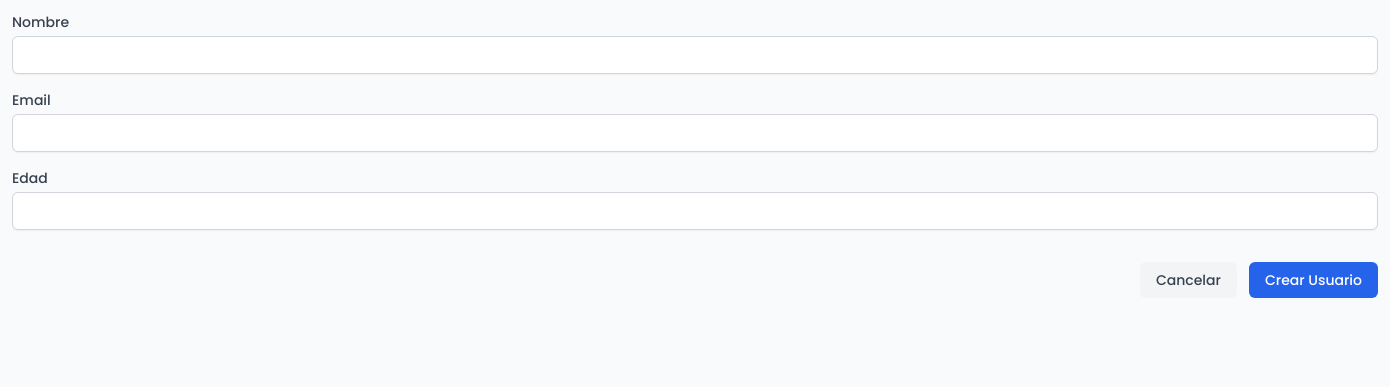
Feature: Formulario de Creación de Usuarios › Scenario: Usuario ingresa un correo electrónico inválido › Debe mostrar error para formato de correo electrónico inválido
Note: El usuario ingresa un correo electrónico inválido
Type "not-an-email" into the field labelled "Email" at coordinates (695, 133), box [12,114,1378,152]
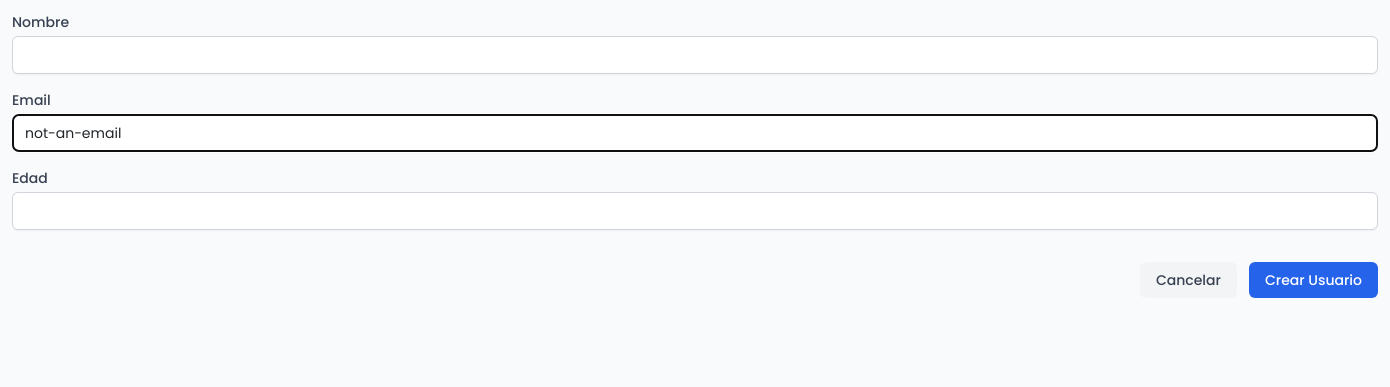
Note: AND: El usuario hace clic en el botón de enviar
Click the button "Crear Usuario" at coordinates (1313, 280), box [1249,262,1378,298]
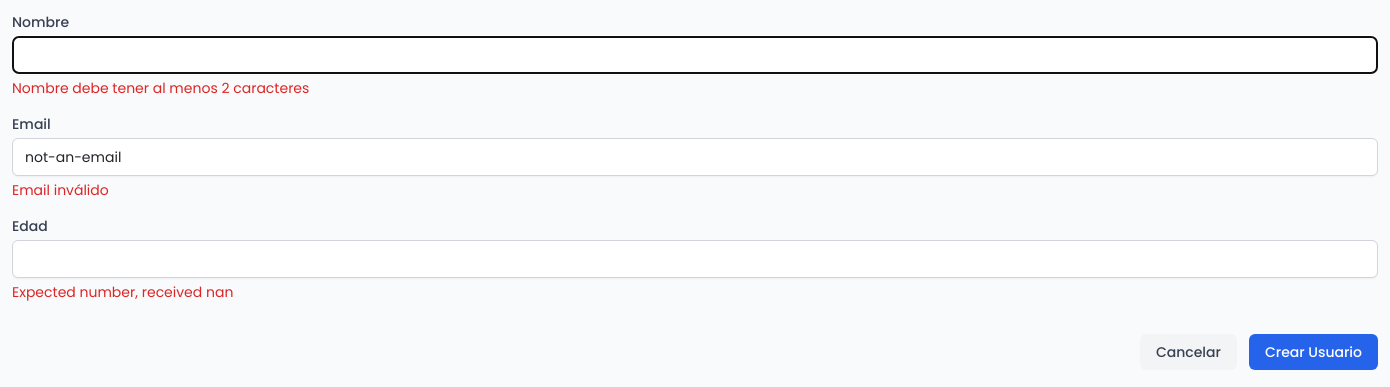
expect the text "Email inválido" is shown: met, box [12,180,109,200]
